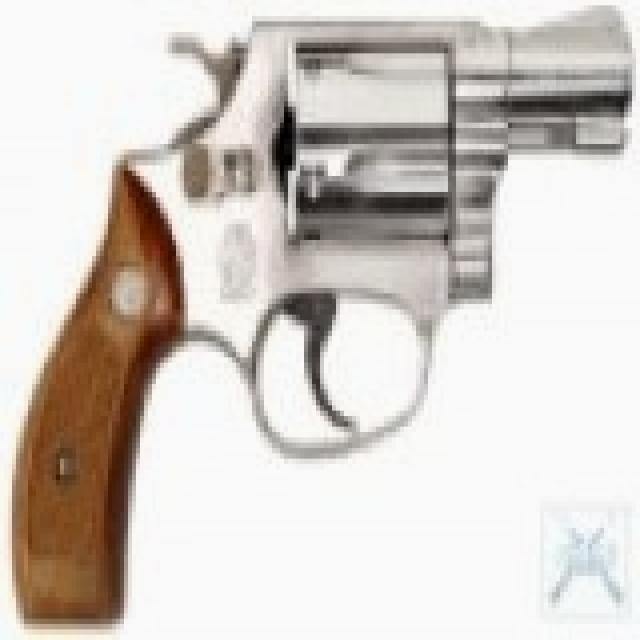pistol: (20, 0, 636, 619)
